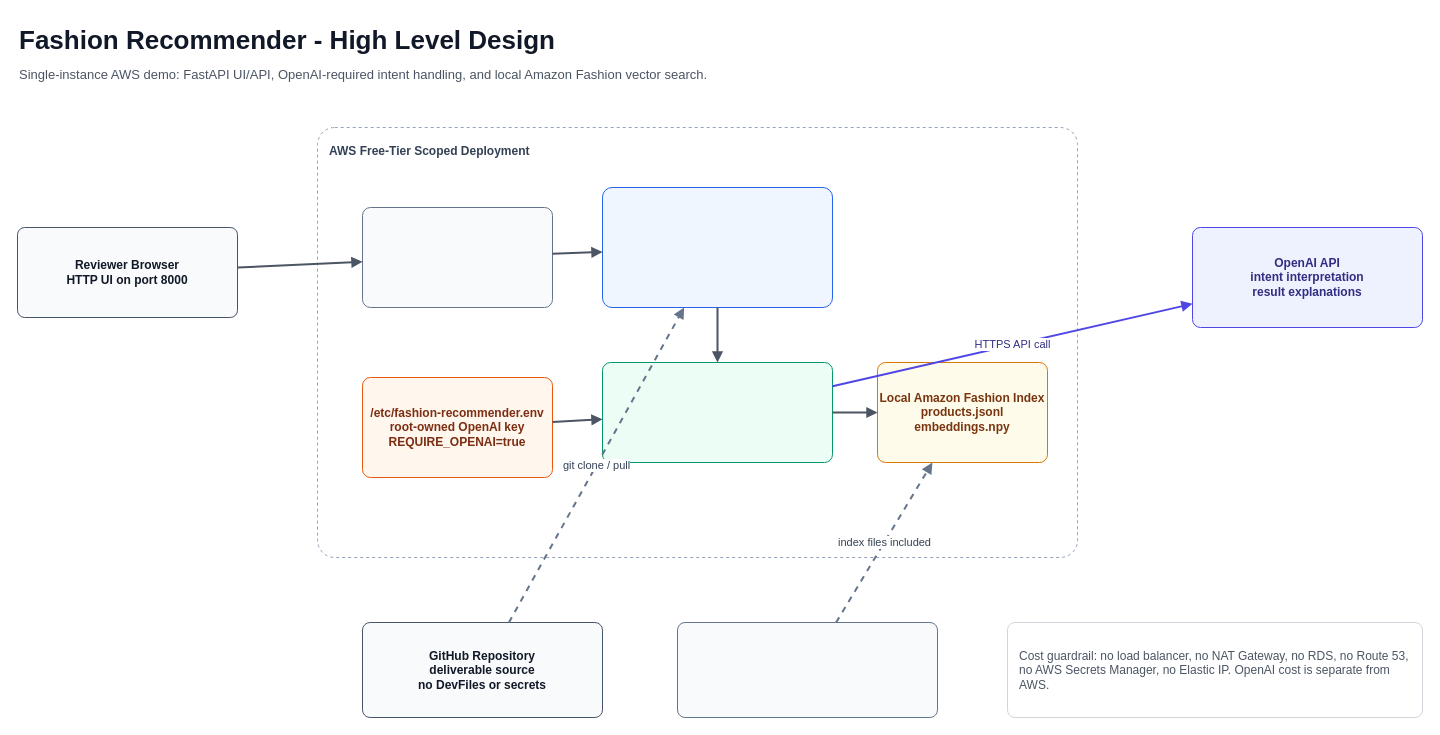
The diagram is 1440 pixels wide and 735 high, and some of its shapes have lost their labels. Each missing label, with the centre of its shape:
Assignment Dataset Amazon Fashion metadata prebuilt 16k-product sample index: pixel 807 670
EC2 t3.micro Amazon Linux + Python 3.11 systemd service: pixel 717 247
FastAPI Application static UI + /health + /recommend: pixel 717 412
Security Group 8000 public 22 restricted to admin IP: pixel 457 257
